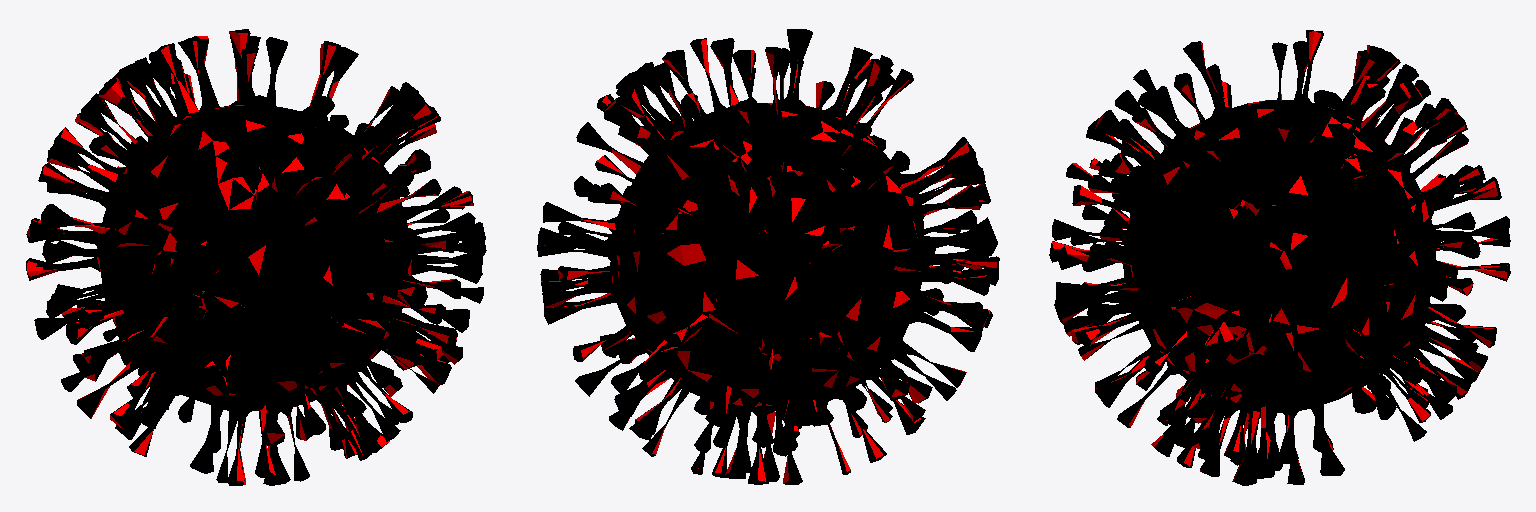
3 renders of one model, left to right at view 1: azimuth 30°, elevation 25°; view 2: azimuth 150°, elevation 25°; view 3: azimuth 270°, elevation 25°, orthographic.
Parts seen in each view (by area): view 1: corona_Icosphere; view 2: corona_Icosphere; view 3: corona_Icosphere.
Boxes of the visible parts, x1=… form: corona_Icosphere: x1=26, y1=29, x2=486, y2=485; corona_Icosphere: x1=537, y1=29, x2=999, y2=484; corona_Icosphere: x1=1049, y1=30, x2=1510, y2=485.
Size of the model in its own units: 21.28 by 21.22 by 21.25.
1 materials, 1 textured.